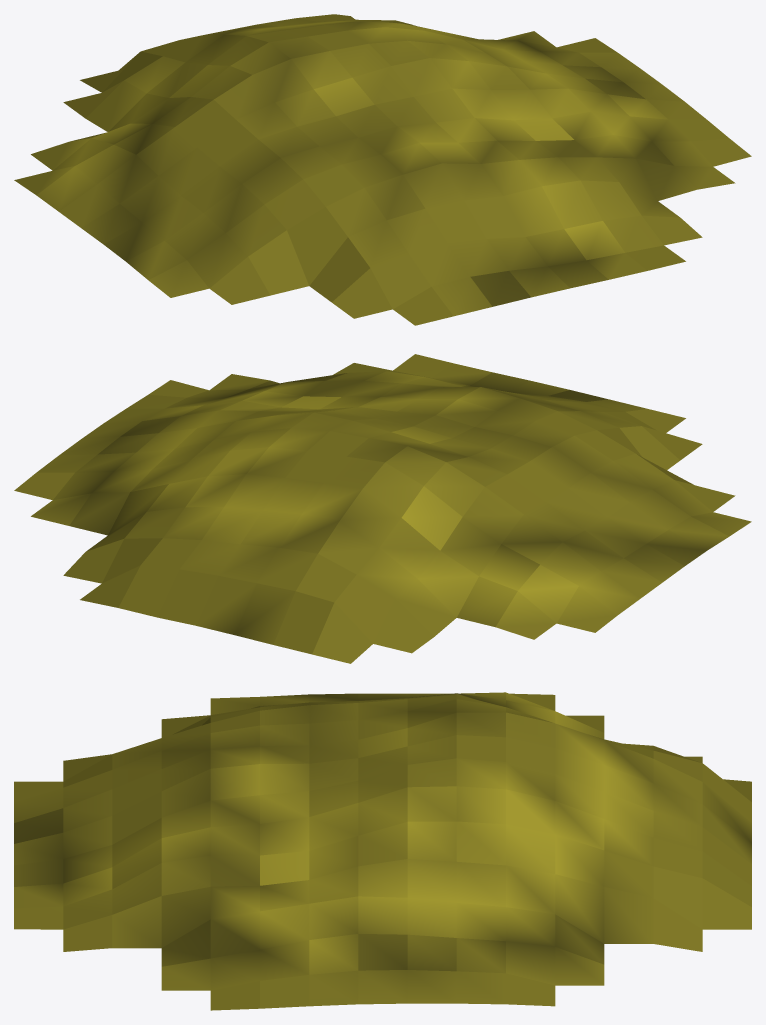
The model's file is SM_sandpile.FBX.
3 views of the same model, one above another, from view 1: azimuth 30°, elevation 25°; view 2: azimuth 150°, elevation 25°; view 3: azimuth 270°, elevation 25° (orthographic). The views are drawn at different scales.
Visible parts, largest first — view 1: Pile; view 2: Pile; view 3: Pile.
Part boxes in pixels (x1,y1,x2,y2): Pile: (14, 14, 751, 325); Pile: (14, 354, 751, 663); Pile: (14, 692, 751, 1010).
Bounding box in the file's own units: 500 × 85.86 × 500.
